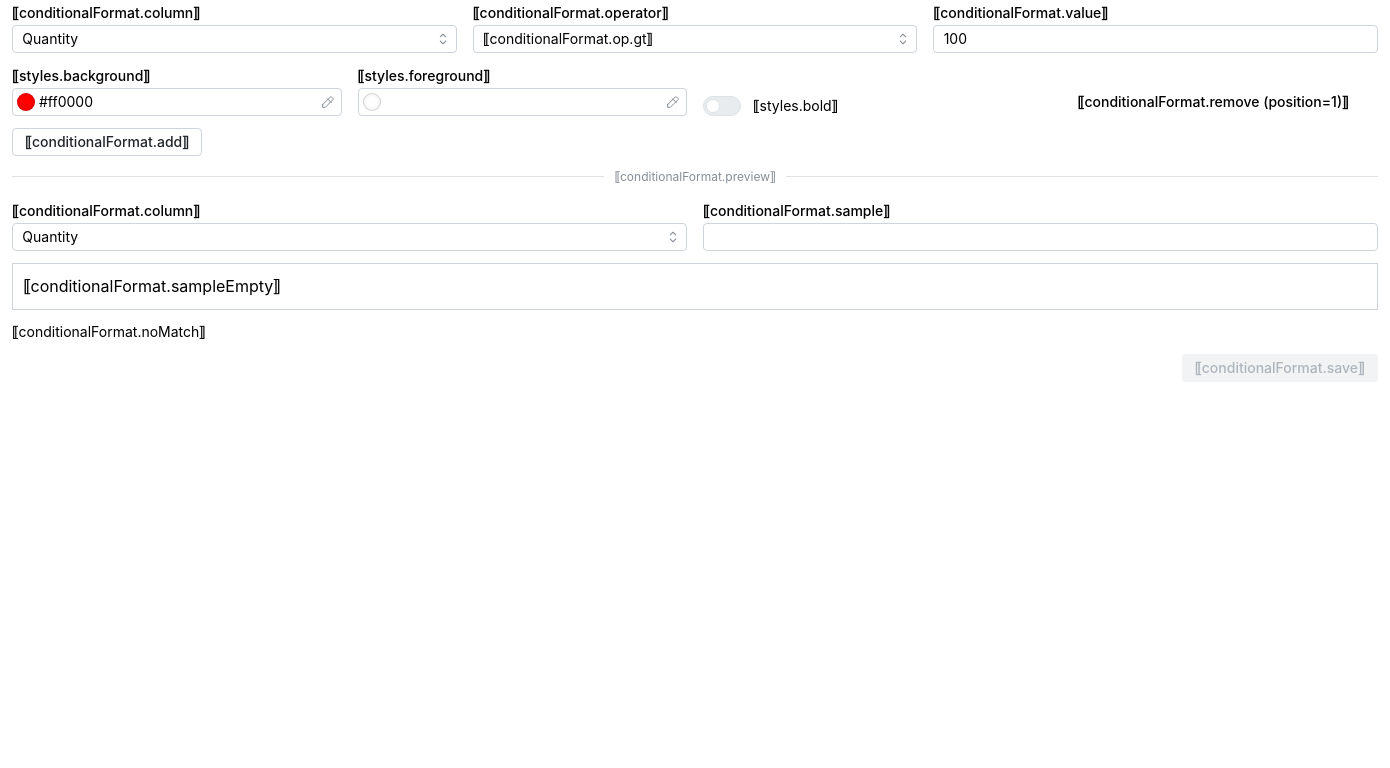
Scenario: ConditionalFormatPanel › правило додається й видаляється
This screenshot has width=1390, height=768.
Expected: the field labelled "⟦conditionalFormat.value⟧" is shown, 933,25 -> 1378,53
Click the button "⟦conditionalFormat.add⟧" at (107, 142), box 12,128 -> 202,156
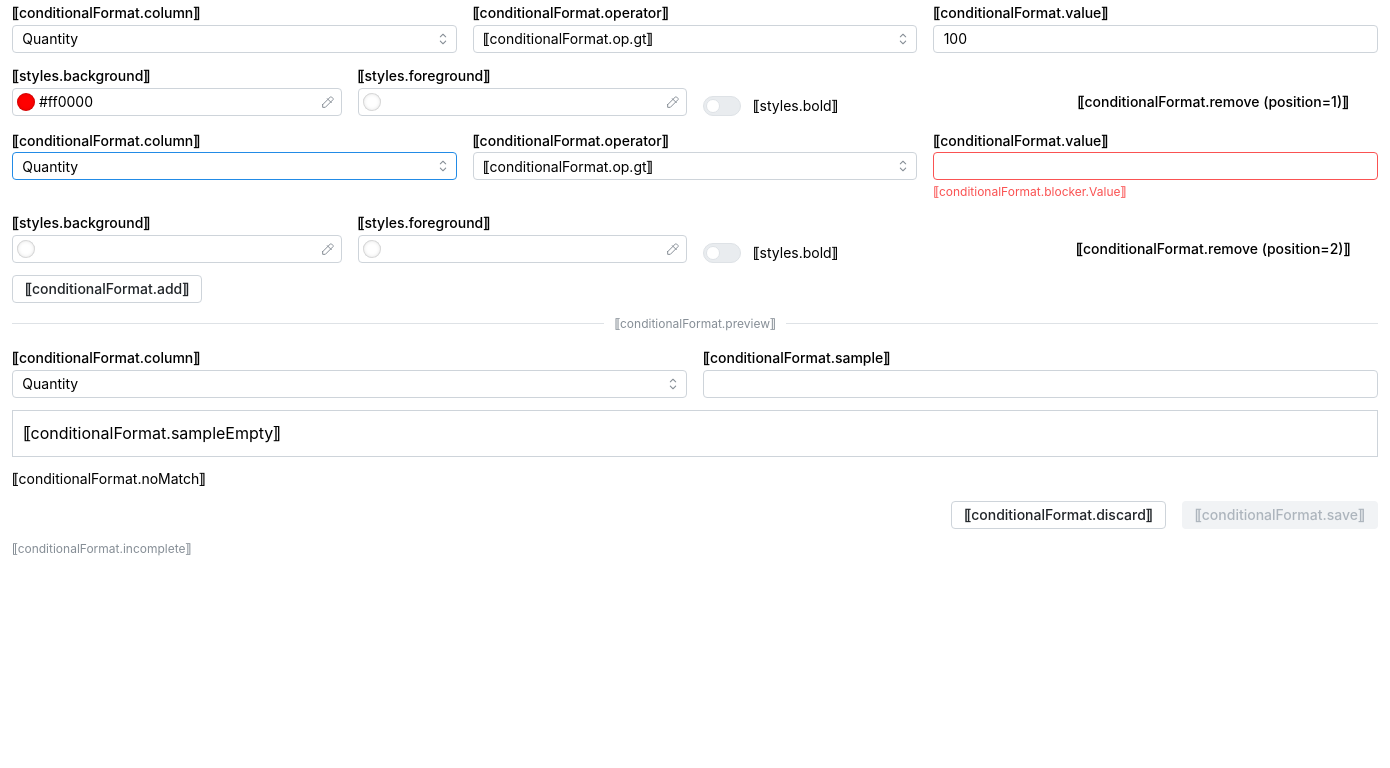
Expected: the number of elements named "conditionalFormat.rule" is 2, 12,0 -> 1378,116; 12,128 -> 1378,263
Click the button "⟦conditionalFormat.remove (position=1)⟧" at (1213, 102), box 1048,88 -> 1378,116
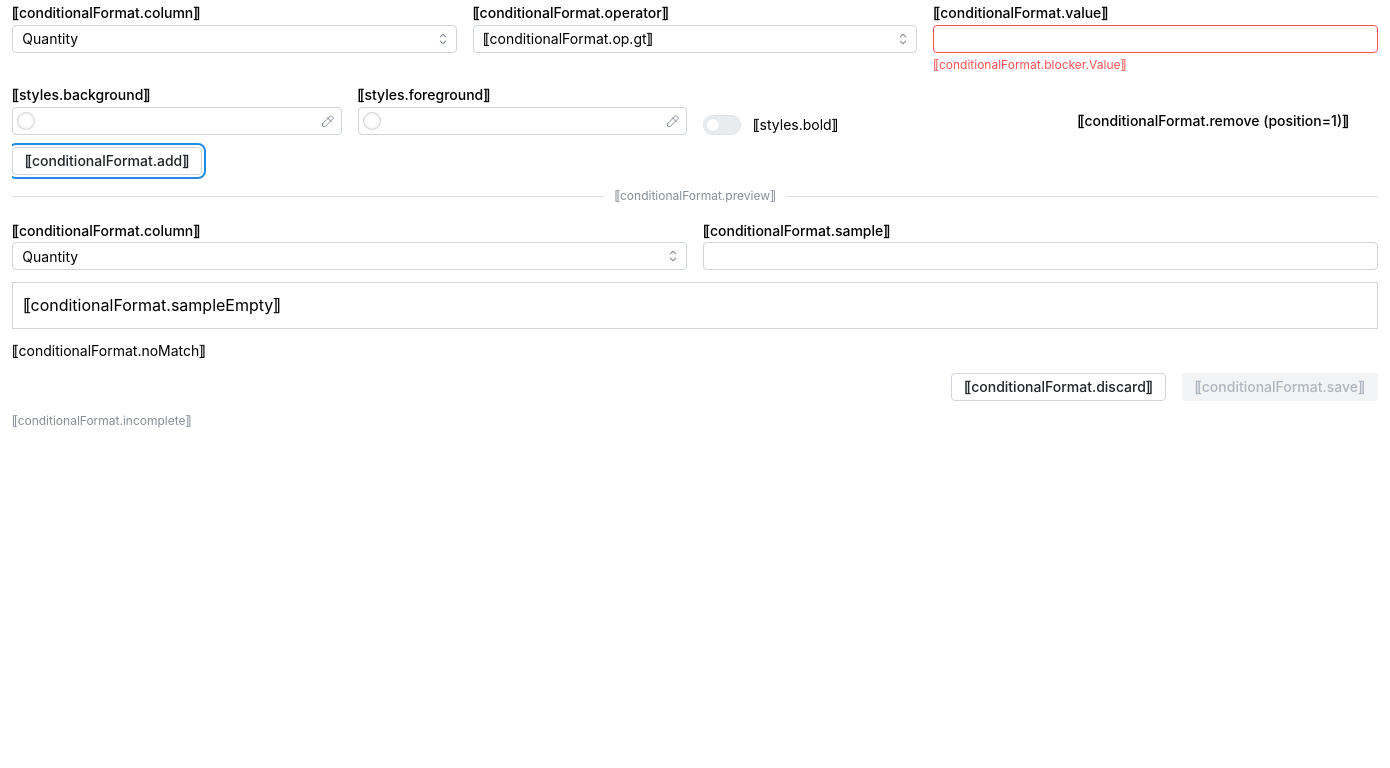
Expected: the number of elements named "conditionalFormat.rule" is 1, 12,0 -> 1378,135
